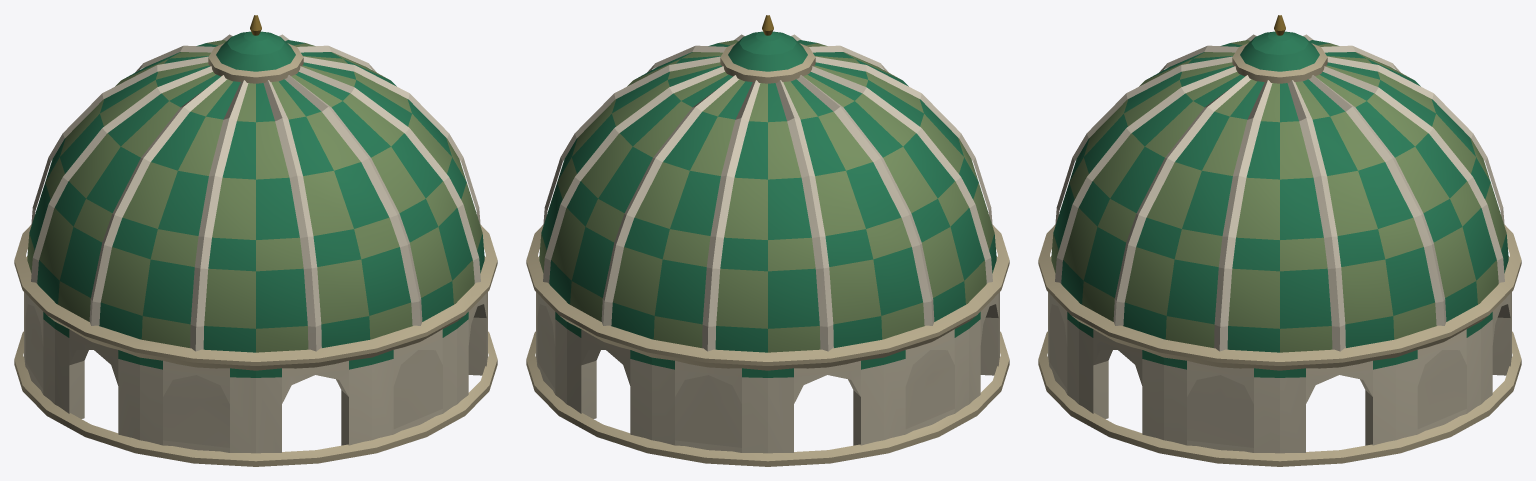
File: dome.hall_12.green.glb
3 views of the same model, side by side, from view 1: azimuth 30°, elevation 25°; view 2: azimuth 150°, elevation 25°; view 3: azimuth 270°, elevation 25° (orthographic).
Parts seen in each view (by area): view 1: dome_hall_12_green; view 2: dome_hall_12_green; view 3: dome_hall_12_green.
Part boxes in pixels (x1,y1,x2,y2): dome_hall_12_green: (14, 15, 497, 466); dome_hall_12_green: (526, 15, 1009, 466); dome_hall_12_green: (1038, 15, 1521, 466).
Size of what is drawn, in the model's own units: 15.2 by 12.15 by 15.2.
